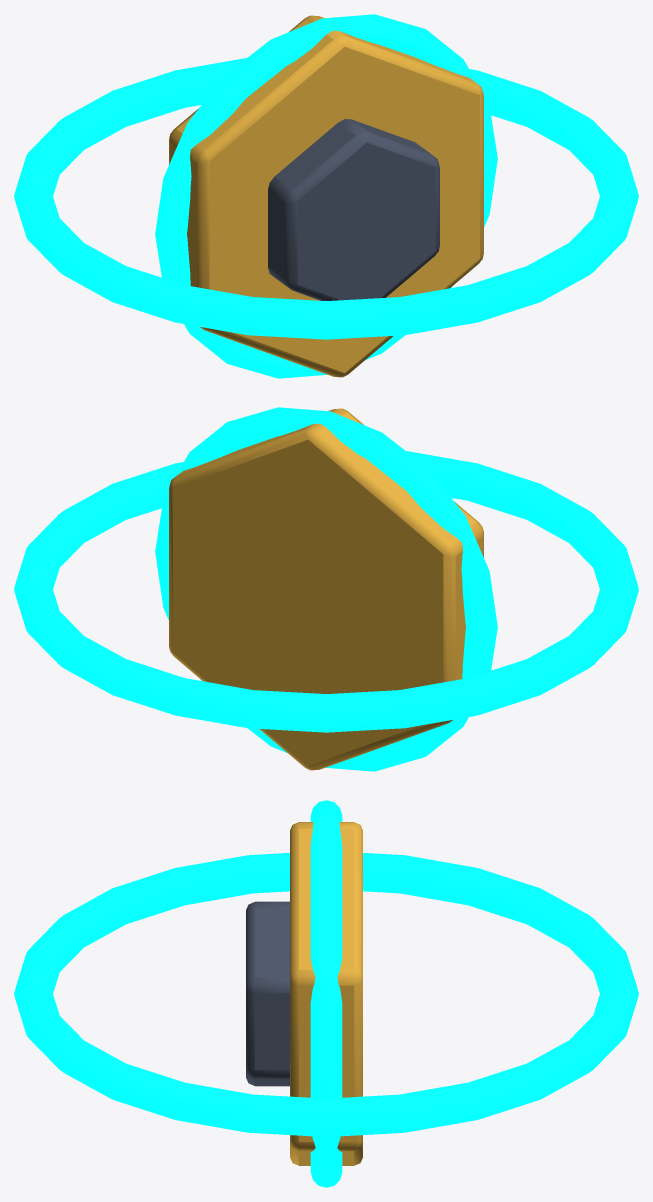
The model's file is pickup_armor_uber.glb.
The picture shows the model from 3 angles, top to bottom: view 1: azimuth 30°, elevation 25°; view 2: azimuth 150°, elevation 25°; view 3: azimuth 270°, elevation 25°; orthographic projection.
Parts seen in each view (by area): view 1: pickup_armor_uber; view 2: pickup_armor_uber; view 3: pickup_armor_uber.
Part boxes in pixels (box(x1,y1,x2,y2)): pickup_armor_uber: box(14, 14, 638, 378); pickup_armor_uber: box(14, 407, 638, 771); pickup_armor_uber: box(14, 800, 638, 1187).
Bounding box in the file's own units: 1.45 × 0.9057 × 1.45.
